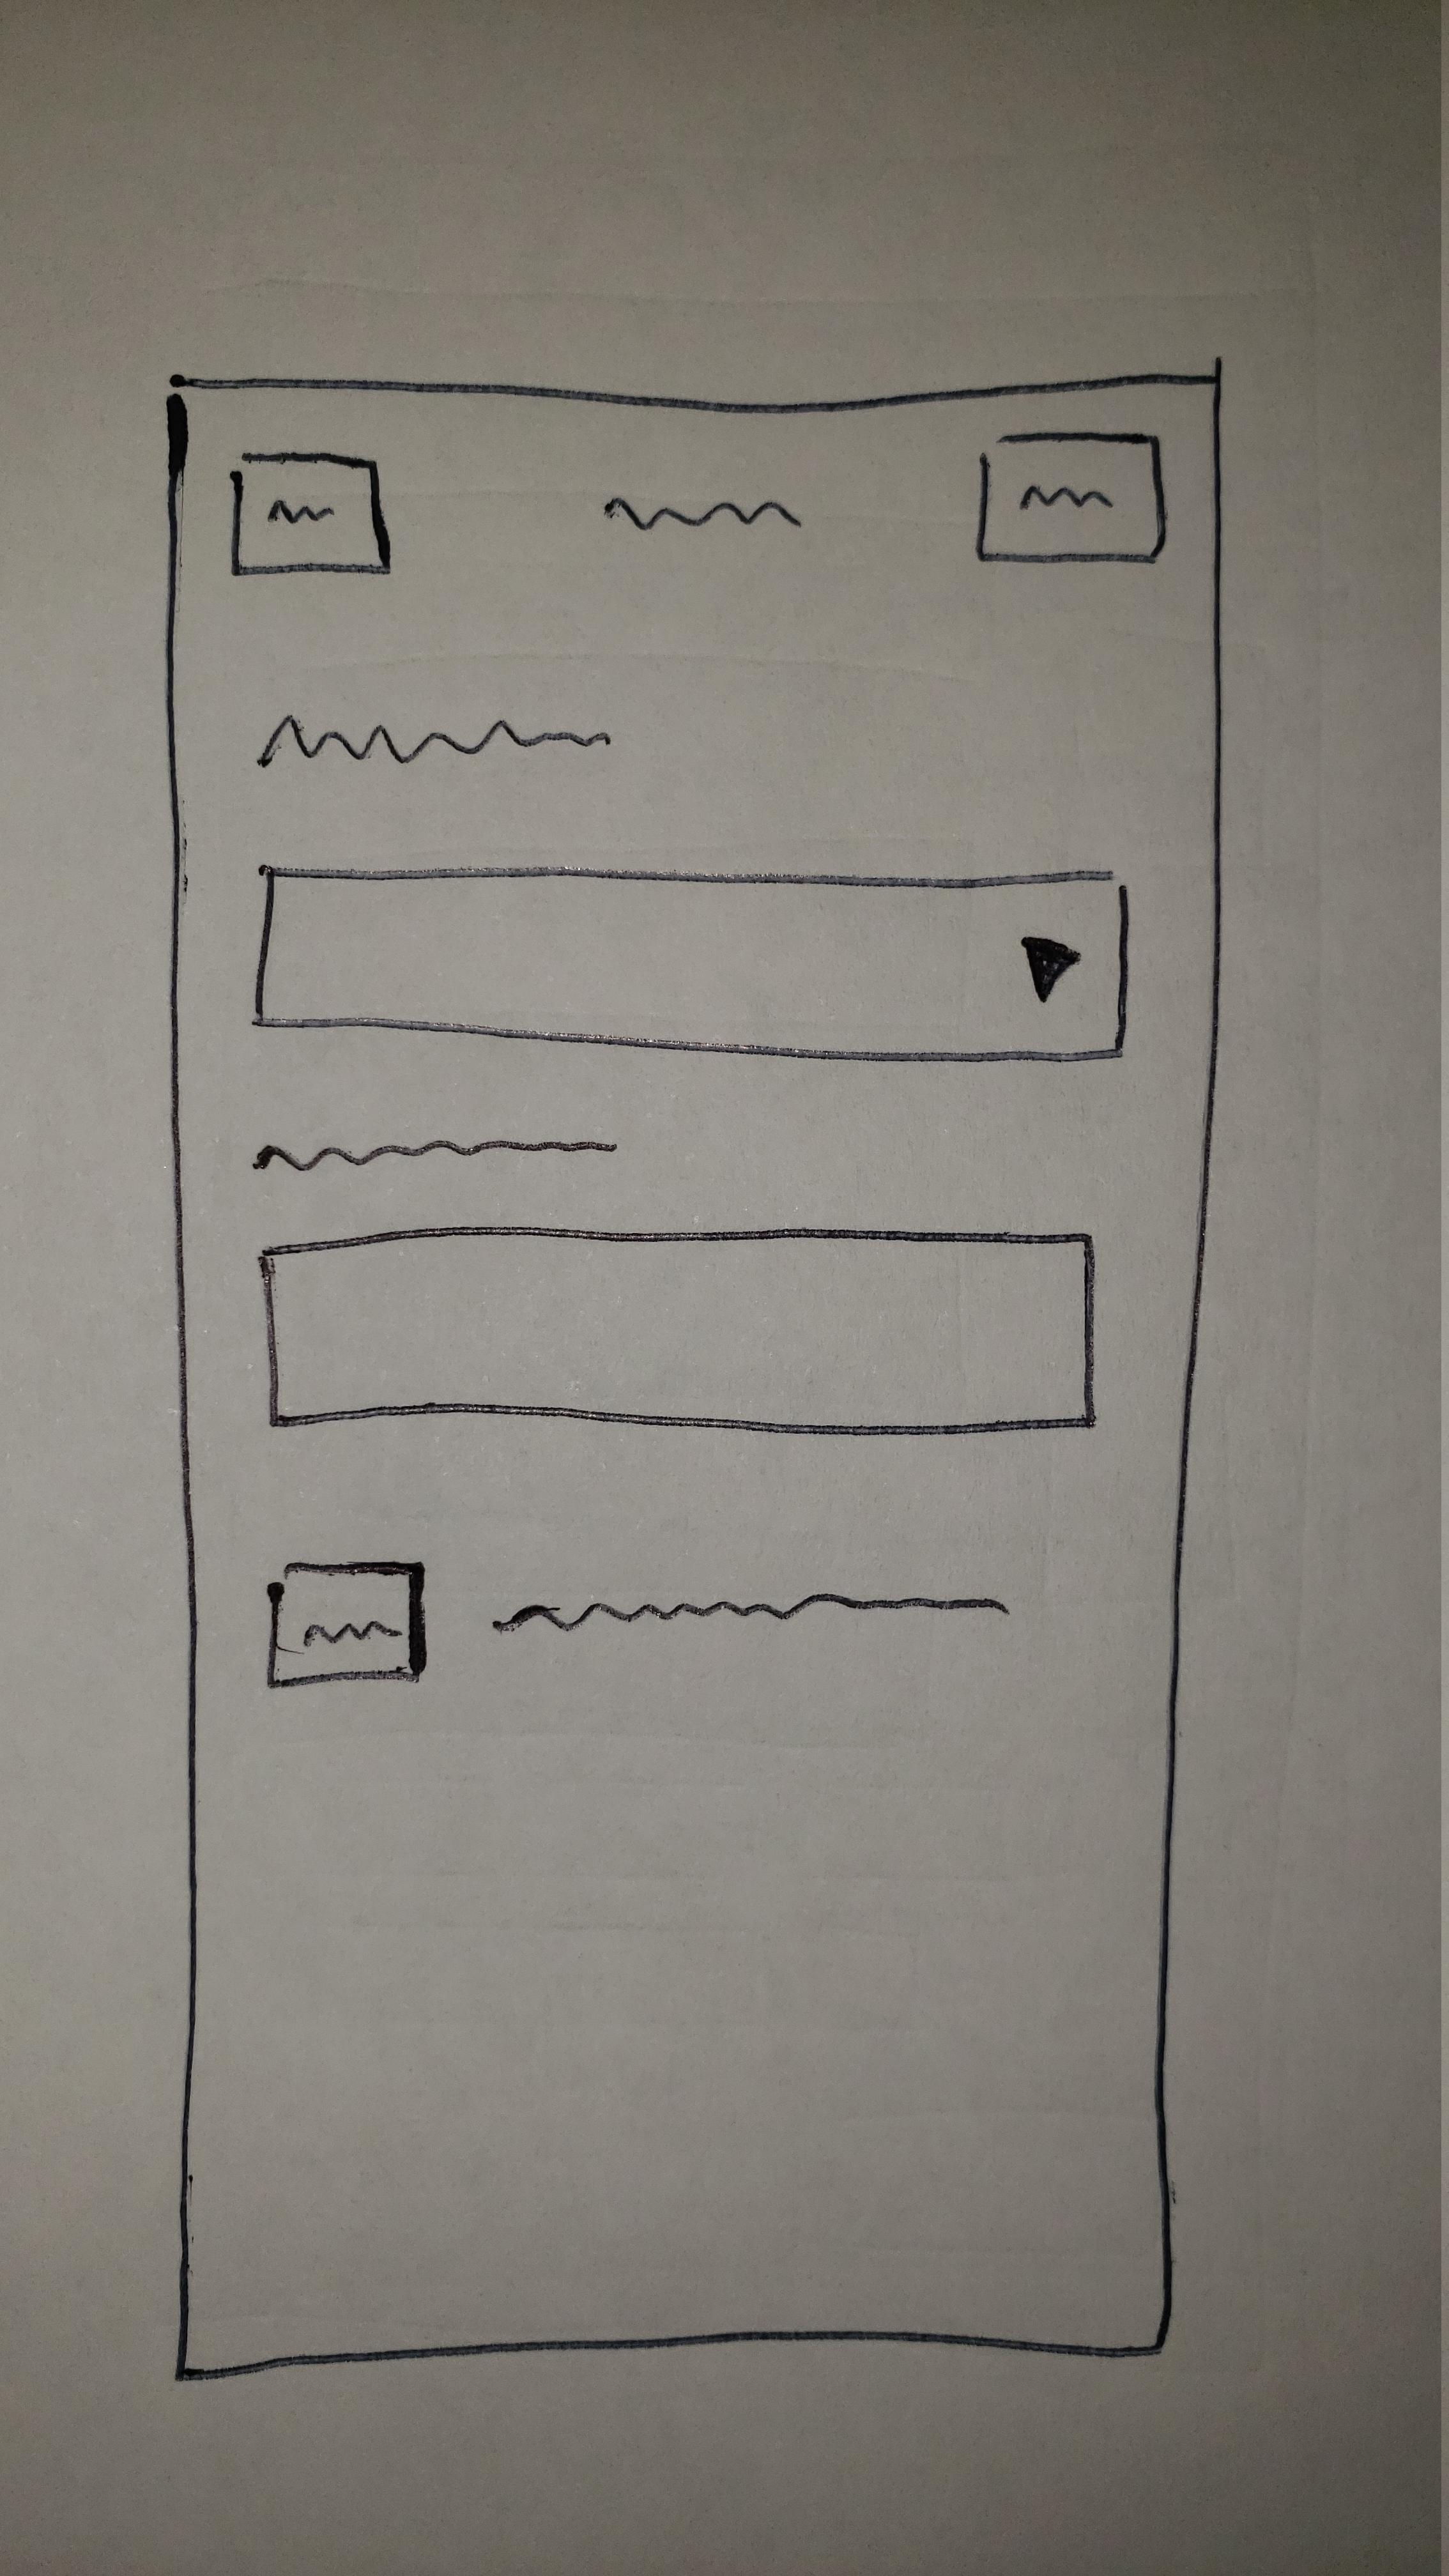Button: (975, 428, 1169, 563), (228, 449, 395, 575), (264, 1559, 425, 1686)
Label: (490, 1592, 1008, 1637), (258, 715, 610, 768), (253, 1138, 621, 1173), (603, 495, 803, 529)
ListPicker: (253, 865, 1131, 1062)
Screen: (166, 356, 1224, 2381)
TextBox: (258, 1224, 1099, 1435)
